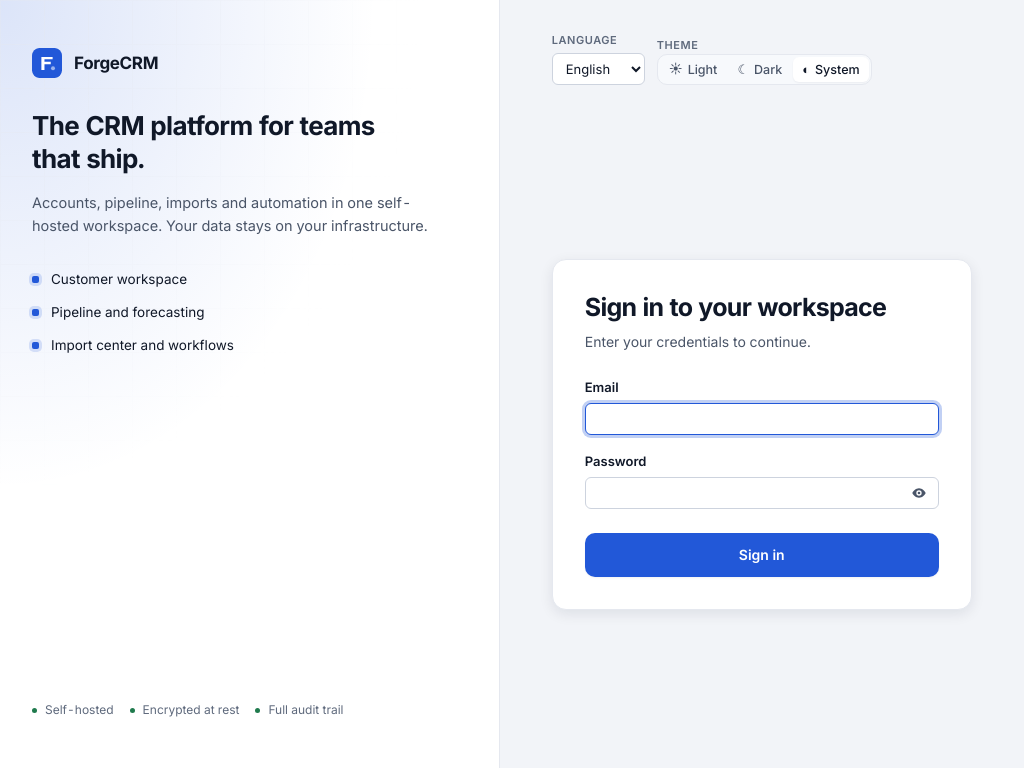
one application on one origin › signs in and lands on the overview
Type "e2e@example.com" into the field labelled "Email" at (762, 419), box [585,403,939,435]
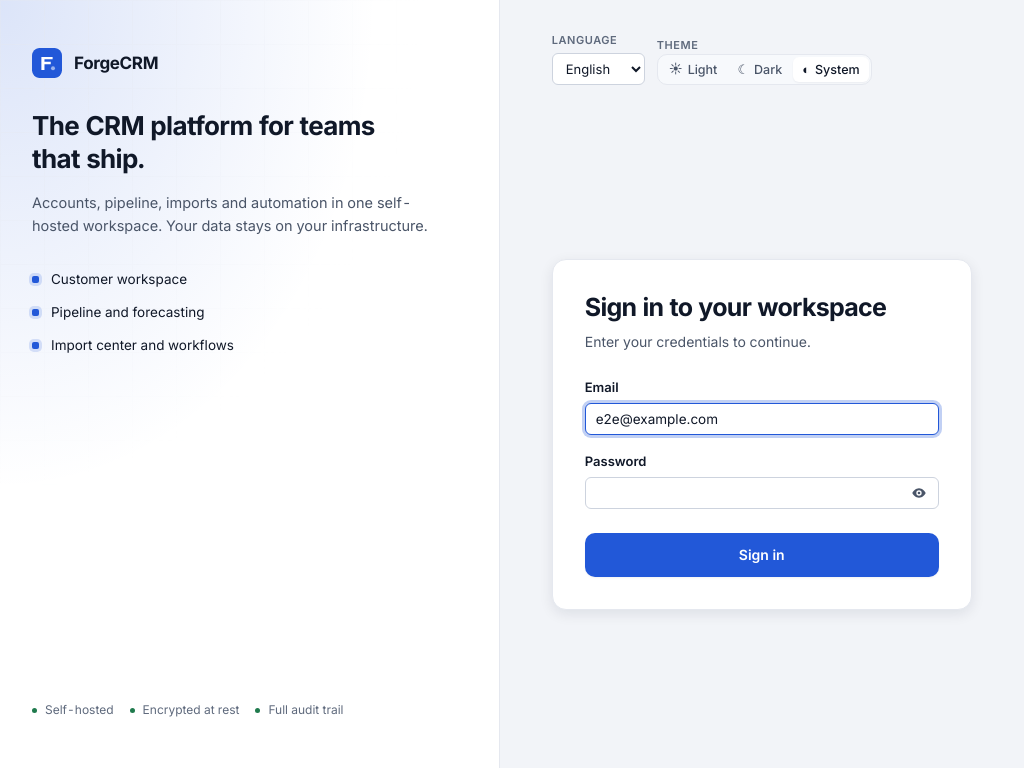
Type "correct-horse-battery" into the password field labelled "Password" at (762, 493), box [585,477,939,509]
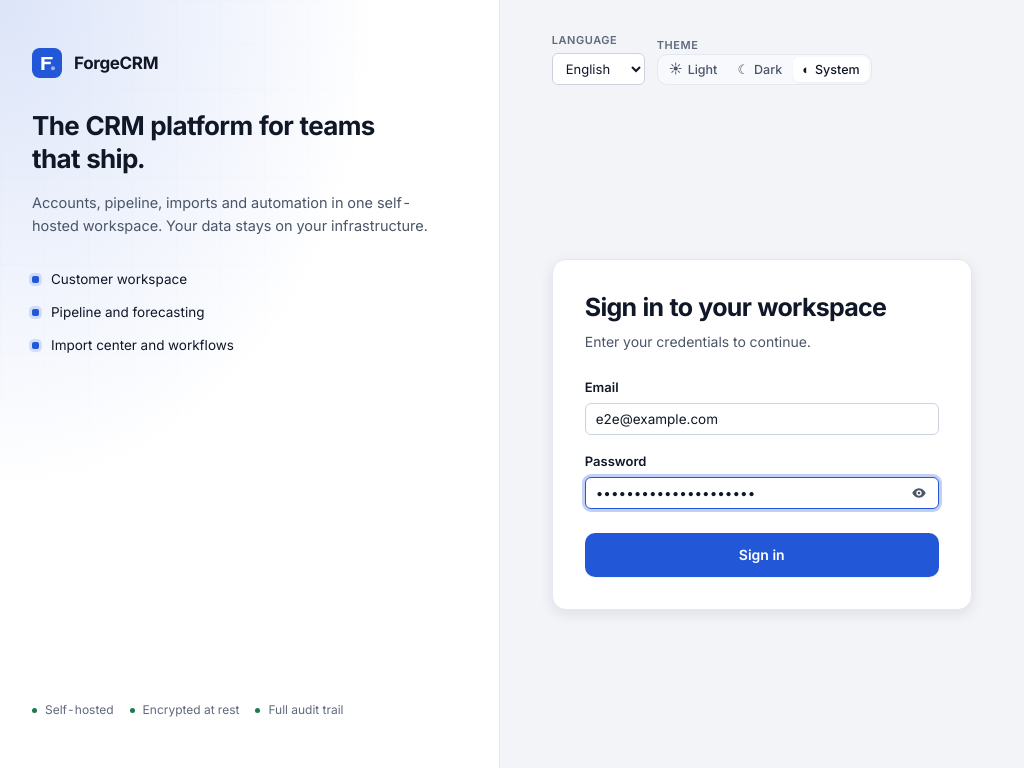
Click the button "Sign in" at (762, 555), box [585,533,939,577]
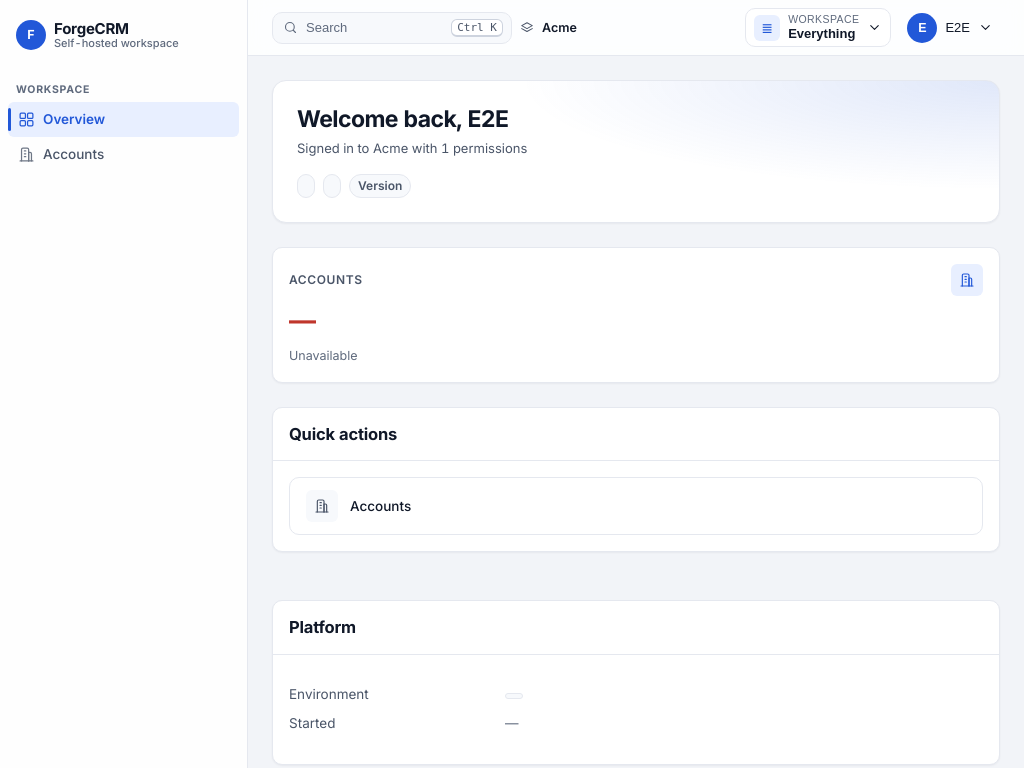
Expected: the heading "Welcome back, E2E" is shown, [297,105,508,133]
